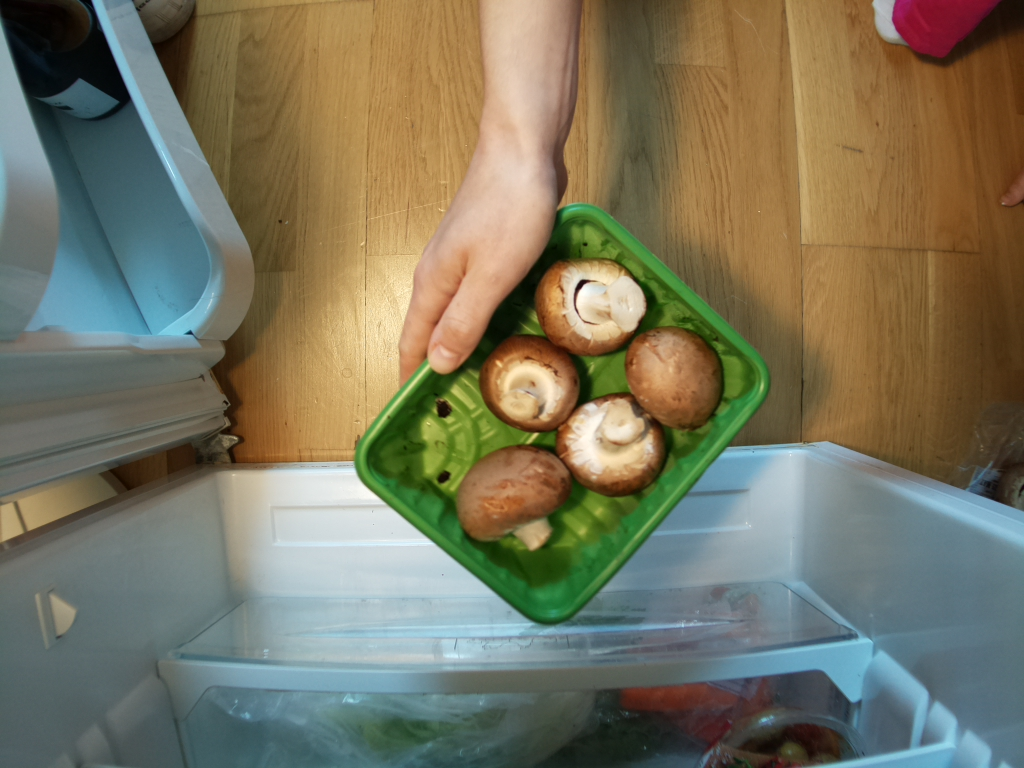mushrooms: (357, 202, 766, 625)
